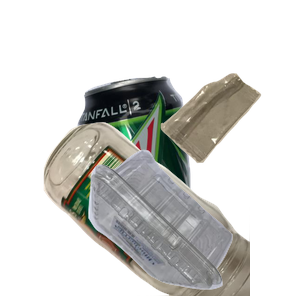glass: (41, 120, 281, 300)
metal: (74, 74, 257, 254)
plastic: (86, 147, 300, 300)
trash: (158, 71, 300, 227)
